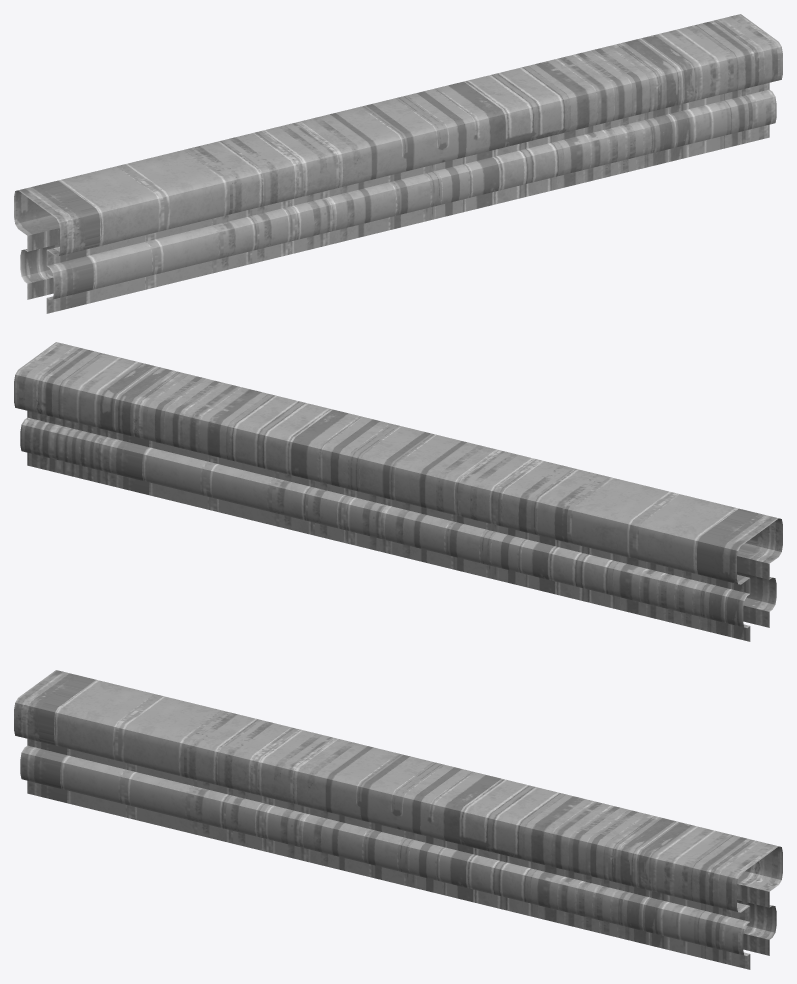
The model's file is SM_Trim3.fbx.
3 renders of one model, top to bottom at view 1: azimuth 30°, elevation 25°; view 2: azimuth 150°, elevation 25°; view 3: azimuth 330°, elevation 25°, orthographic.
Parts seen in each view (by area): view 1: SM_Trim3_LOD0; view 2: SM_Trim3_LOD0; view 3: SM_Trim3_LOD0.
Boxes of the visible parts, left/top/right/bottom form: SM_Trim3_LOD0: left=14, top=14, right=782, bottom=313; SM_Trim3_LOD0: left=14, top=342, right=782, bottom=641; SM_Trim3_LOD0: left=14, top=670, right=782, bottom=969.
Bounding box in the file's own units: 300 × 33.17 × 40.71.
